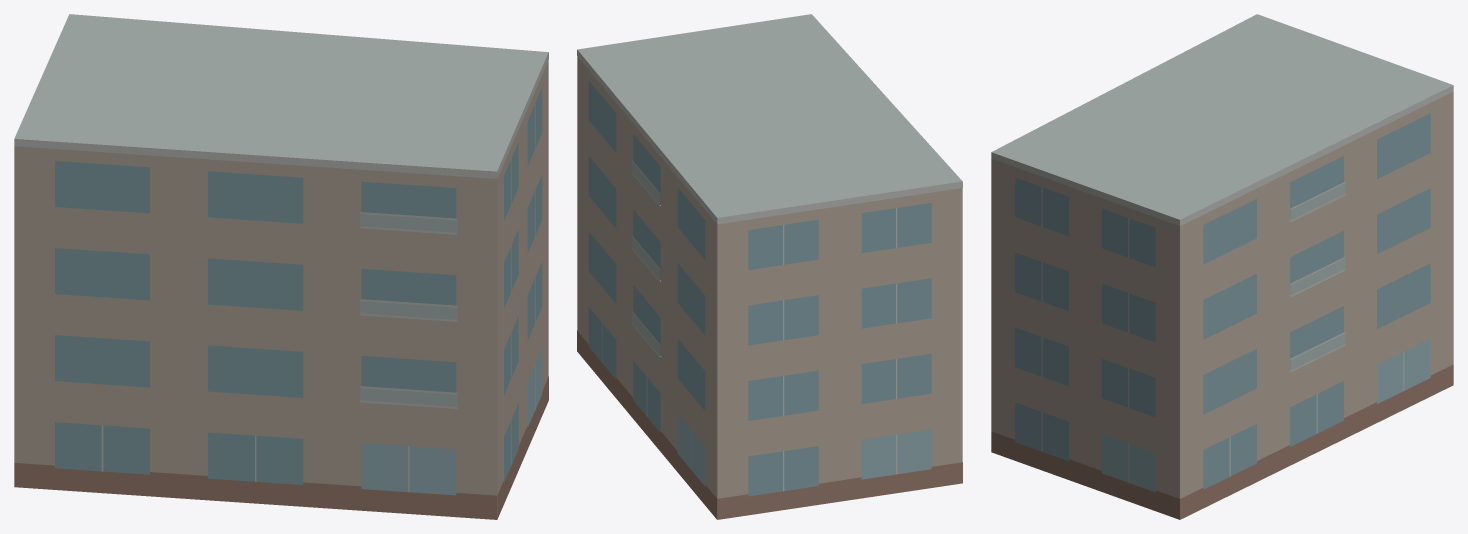
Rendered from survey-upis-33026284.glb.
3 renders of one model, left to right at view 1: azimuth 30°, elevation 25°; view 2: azimuth 150°, elevation 25°; view 3: azimuth 270°, elevation 25°, orthographic. The views are drawn at different scales.
Parts seen in each view (by area): view 1: survey-upis-33026284.tmp; view 2: survey-upis-33026284.tmp; view 3: survey-upis-33026284.tmp.
Boxes of the visible parts, x1,y1,x2,y2 form: survey-upis-33026284.tmp: [14, 14, 548, 519]; survey-upis-33026284.tmp: [577, 14, 962, 519]; survey-upis-33026284.tmp: [991, 14, 1453, 519].
Size of the model in its own units: 16.93 by 11.5 by 16.07.
